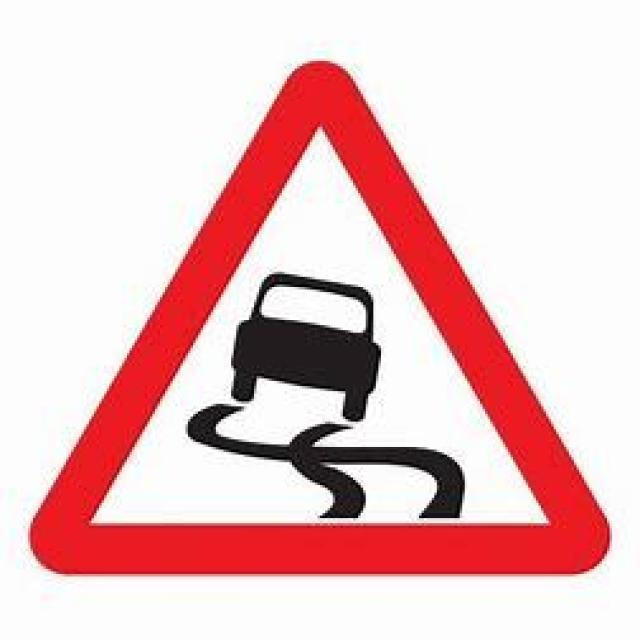slippery road: (35, 57, 606, 585)
